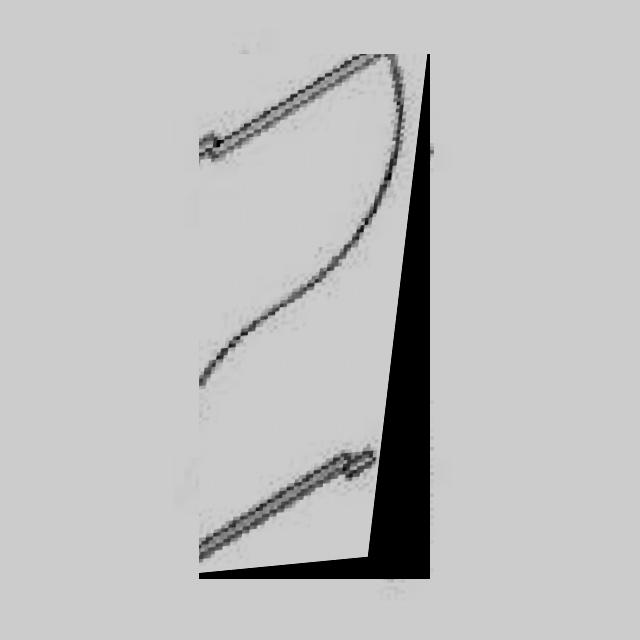door: (199, 54, 430, 579)
